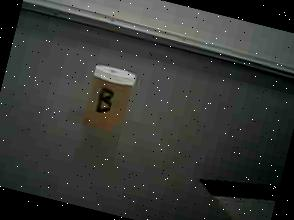Bottle B: (74, 56, 146, 140)
